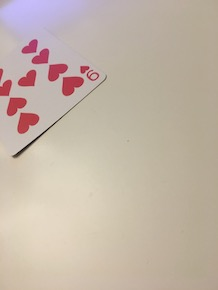NineOfHearts: (1, 21, 111, 158)
